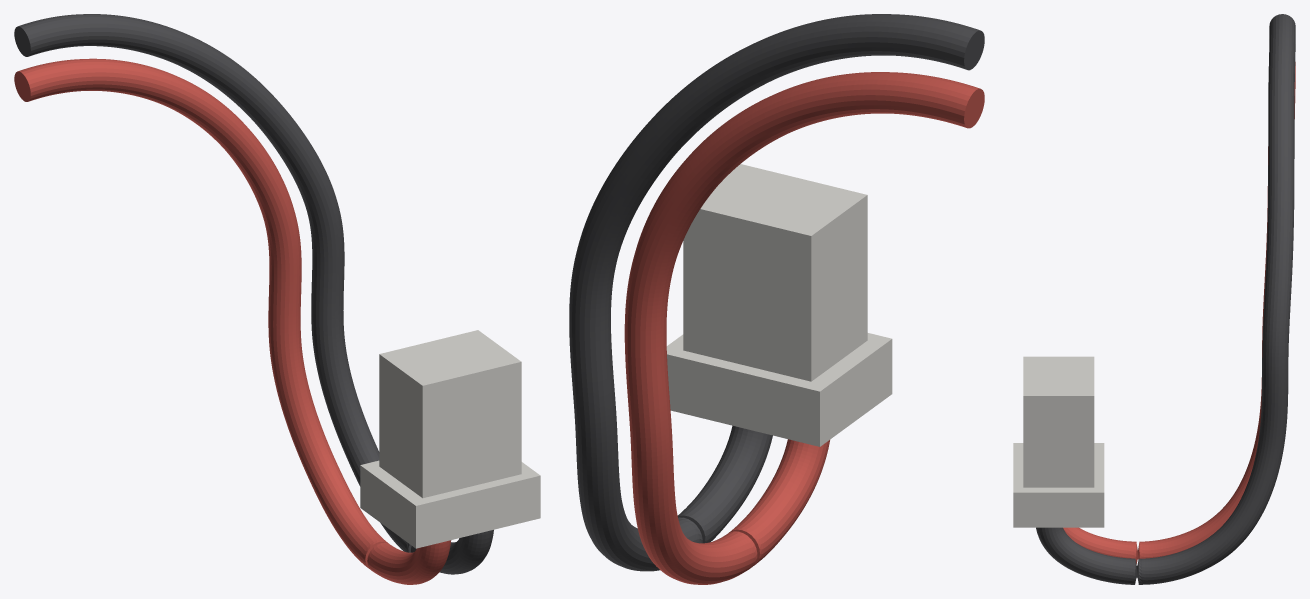
File: battery-lead.glb
3 renders of one model, left to right at view 1: azimuth 30°, elevation 25°; view 2: azimuth 150°, elevation 25°; view 3: azimuth 270°, elevation 25°, orthographic. The views are drawn at different scales.
Parts seen in each view (by area): view 1: geometry_0; view 2: geometry_0; view 3: geometry_0.
Part boxes in pixels (x1=…): geometry_0: x1=14, y1=14, x2=540, y2=584; geometry_0: x1=569, y1=14, x2=984, y2=584; geometry_0: x1=1013, y1=14, x2=1295, y2=584.
Size of the model in its own units: 16.49 by 24.3 by 13.95.
